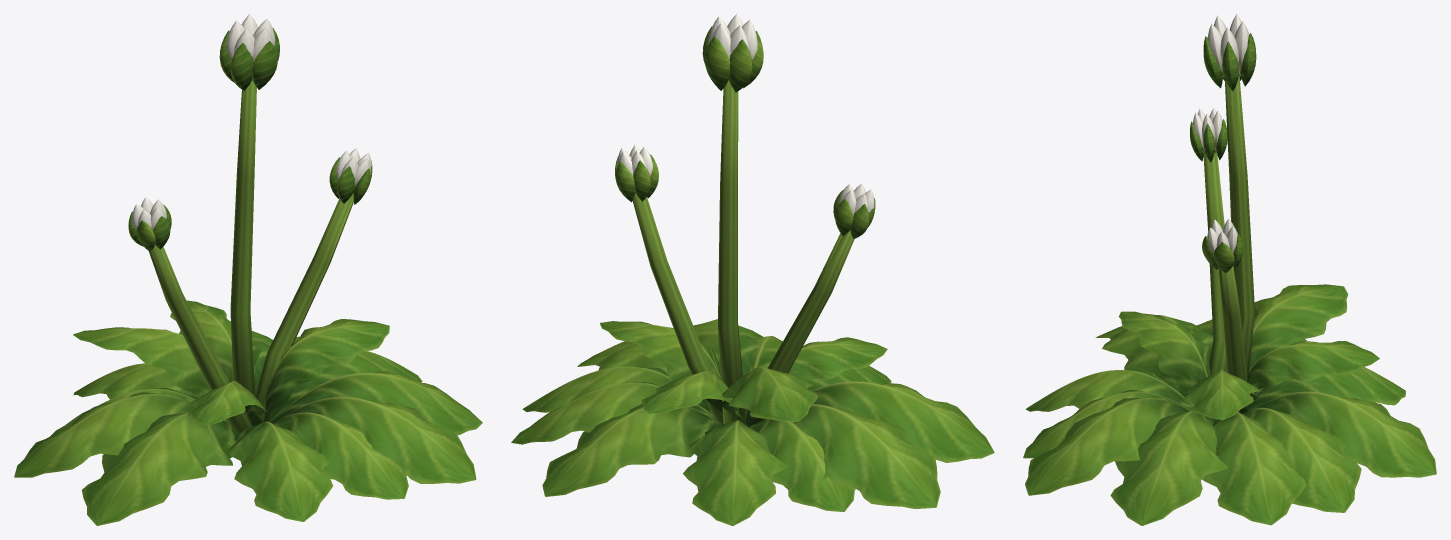
File: NP_Daisy_BudForming.fbx
3 renders of one model, left to right at view 1: azimuth 30°, elevation 25°; view 2: azimuth 150°, elevation 25°; view 3: azimuth 270°, elevation 25°, orthographic.
Visible parts, largest first — view 1: NP_Daisy_BudForming.001; view 2: NP_Daisy_BudForming.001; view 3: NP_Daisy_BudForming.001.
Boxes of the visible parts, bbox=[...] form: NP_Daisy_BudForming.001: bbox=[14, 14, 482, 525]; NP_Daisy_BudForming.001: bbox=[511, 14, 994, 525]; NP_Daisy_BudForming.001: bbox=[1023, 14, 1436, 525].
Size of the model in its own units: 81.81 by 80.04 by 72.15.
